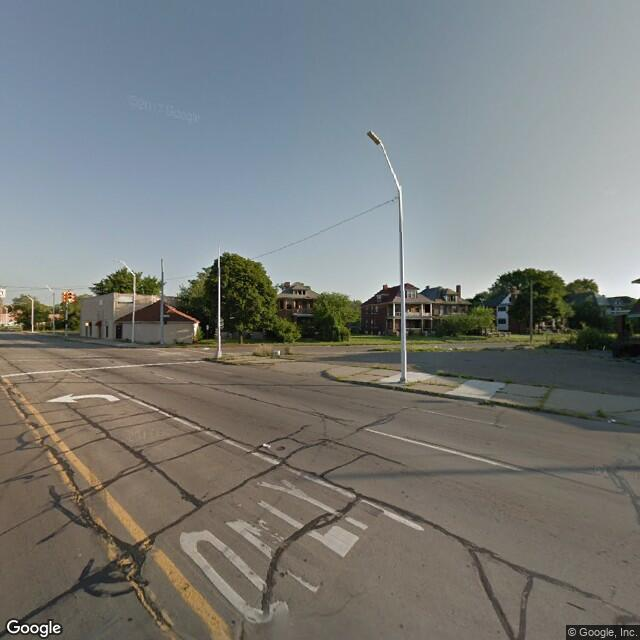litter: (604, 414, 623, 426), (256, 441, 276, 451)
